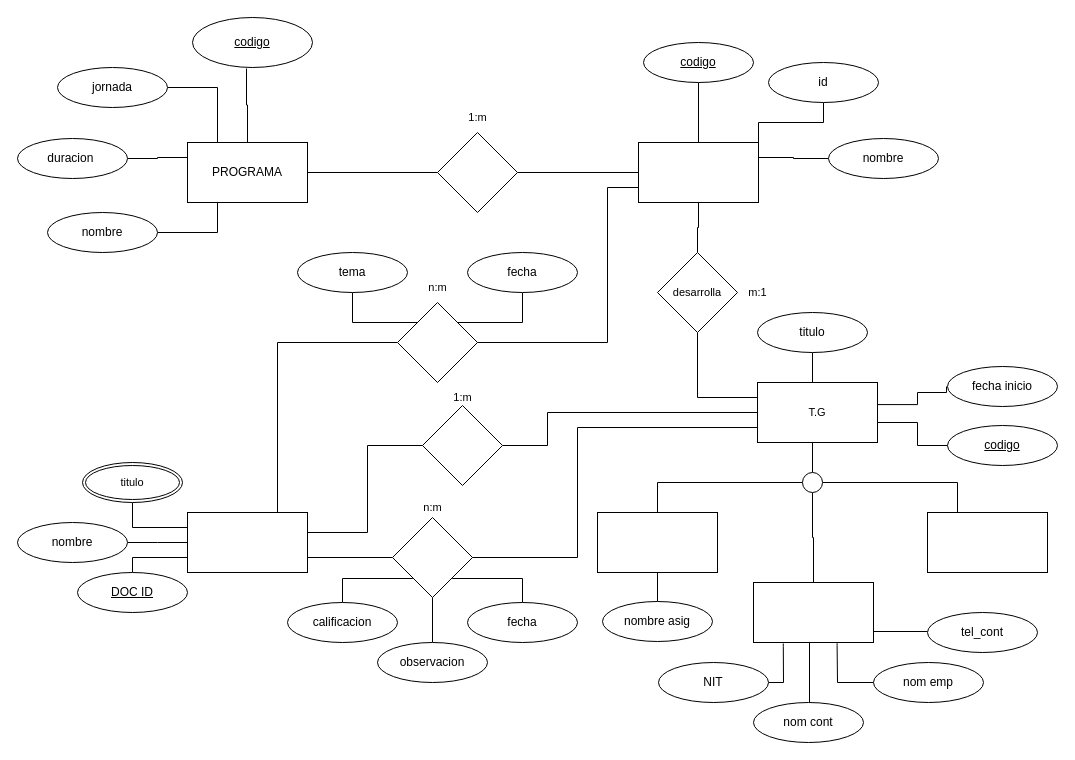
This 1075x760 diagram has some shape labels left out. Each missing label, with the centre of its shape:
asesora: the point at 437,342
dirije: the point at 462,445
ESTUDIANTE: the point at 698,172
evalua: the point at 432,557
PASANTIA: the point at 813,612
pertenece: the point at 477,172
PROFESOR: the point at 247,542
PROFUNDIZACION: the point at 657,542
TESIS: the point at 987,542
